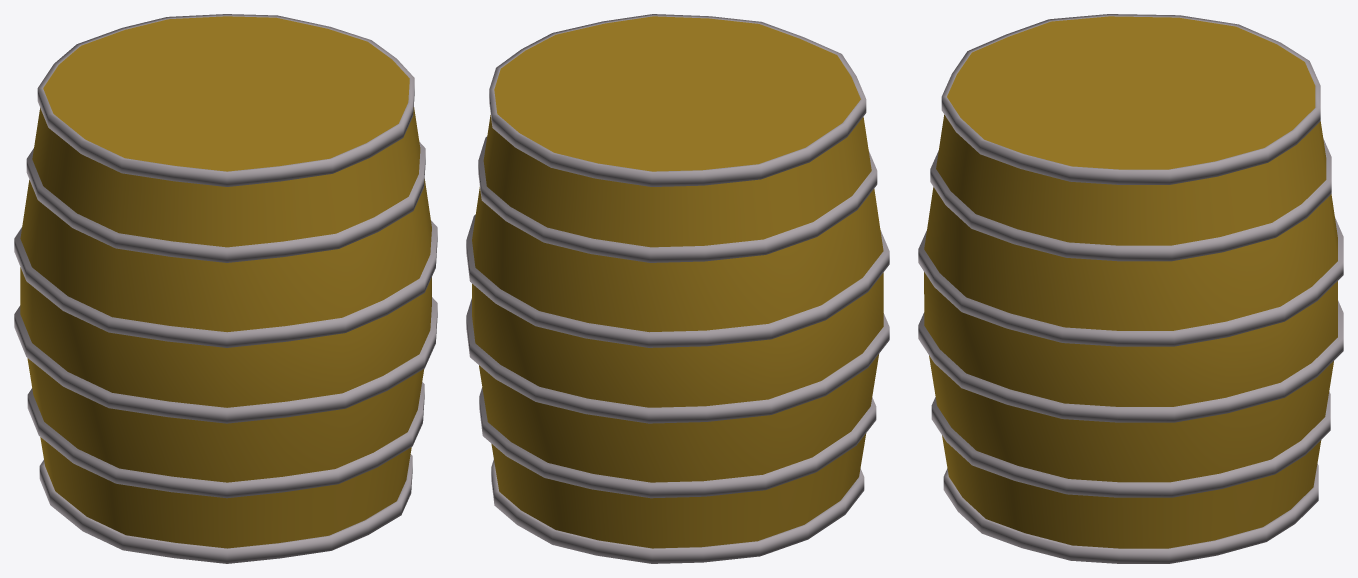
File: Toneau.fbx
3 views of the same model, side by side, from view 1: azimuth 30°, elevation 25°; view 2: azimuth 150°, elevation 25°; view 3: azimuth 270°, elevation 25° (orthographic).
Parts seen in each view (by area): view 1: Toneau_LOD0; view 2: Toneau_LOD0; view 3: Toneau_LOD0.
Part boxes in pixels (x1,y1,x2,y2): Toneau_LOD0: [14, 14, 437, 563]; Toneau_LOD0: [466, 14, 889, 563]; Toneau_LOD0: [918, 14, 1343, 563].
Bounding box in the file's own units: 200 × 207 × 203.
